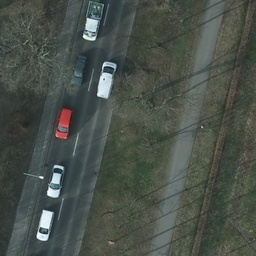car: (98, 60, 117, 100), (47, 164, 66, 198), (70, 52, 88, 86), (36, 210, 54, 240), (56, 109, 72, 136), (83, 17, 99, 40)
